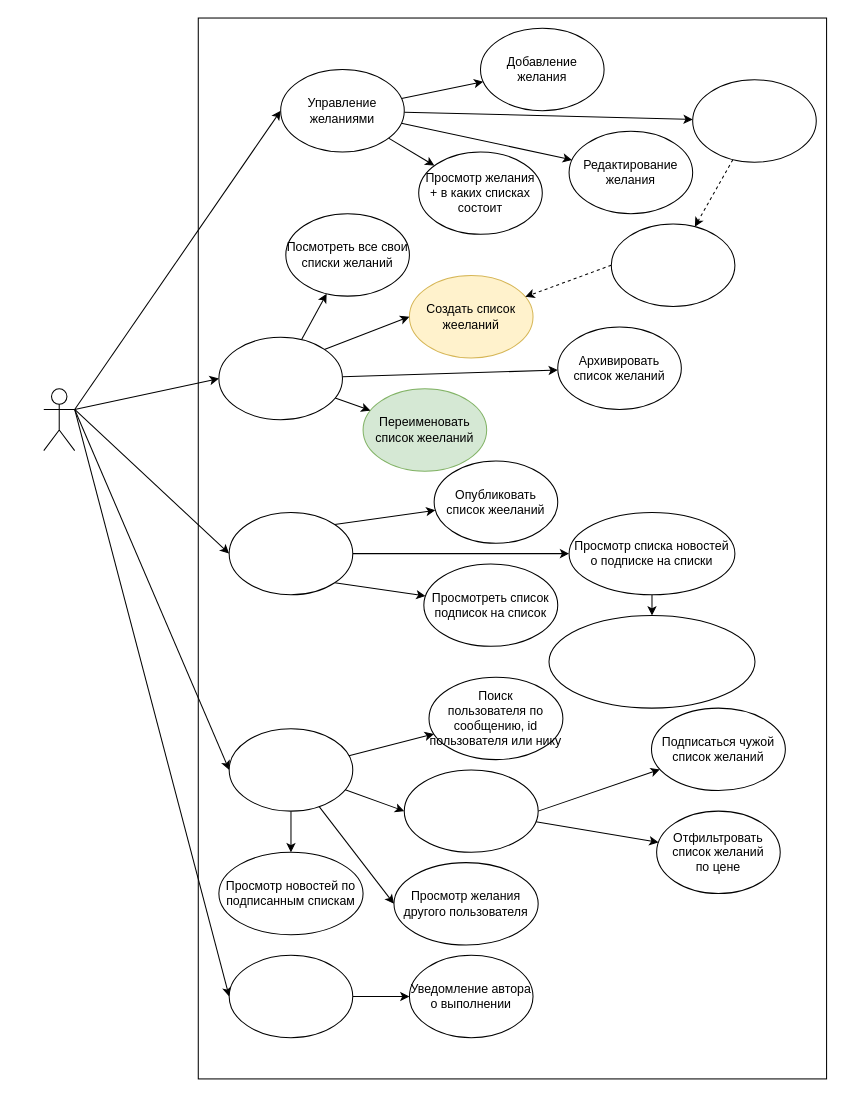
Image size: 845x1097. Some labels were removed from this diagram. The shapes that lost their labels are listed below. From the top down, each one's centre as x and y in pixels, then its label:
(x=754, y=120): Добавление желания в список (по умолчанию в списке "Все желания" )
(x=672, y=264): Авто-создание списка по умолчанию
(x=280, y=378): Управление списком желаний
(x=59, y=419): Пользователь
(x=290, y=553): Управление публикацией списка желаний
(x=651, y=661): Получение нотификаций о новых подписках (с возможность их отключить)
(x=290, y=769): Управление подписками на списки
(x=470, y=810): Просмотреть чужой список желаний
(x=290, y=996): Бронирование желания на выполнение
